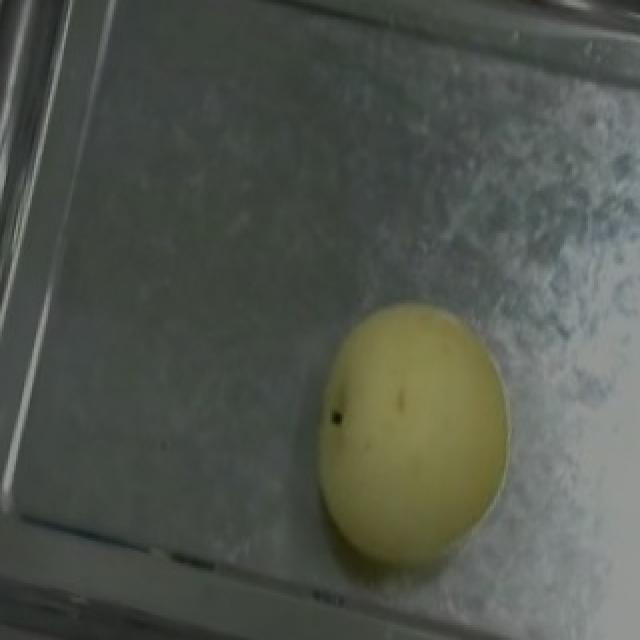Fruit: (266, 275, 536, 603)
